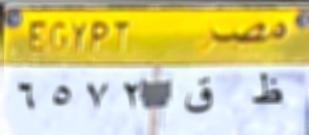2: (121, 81, 141, 115)
5: (49, 83, 75, 112)
6: (15, 81, 41, 115)
7: (85, 79, 111, 114)
Thaa: (242, 71, 286, 118)
qaaf: (182, 73, 221, 125)
